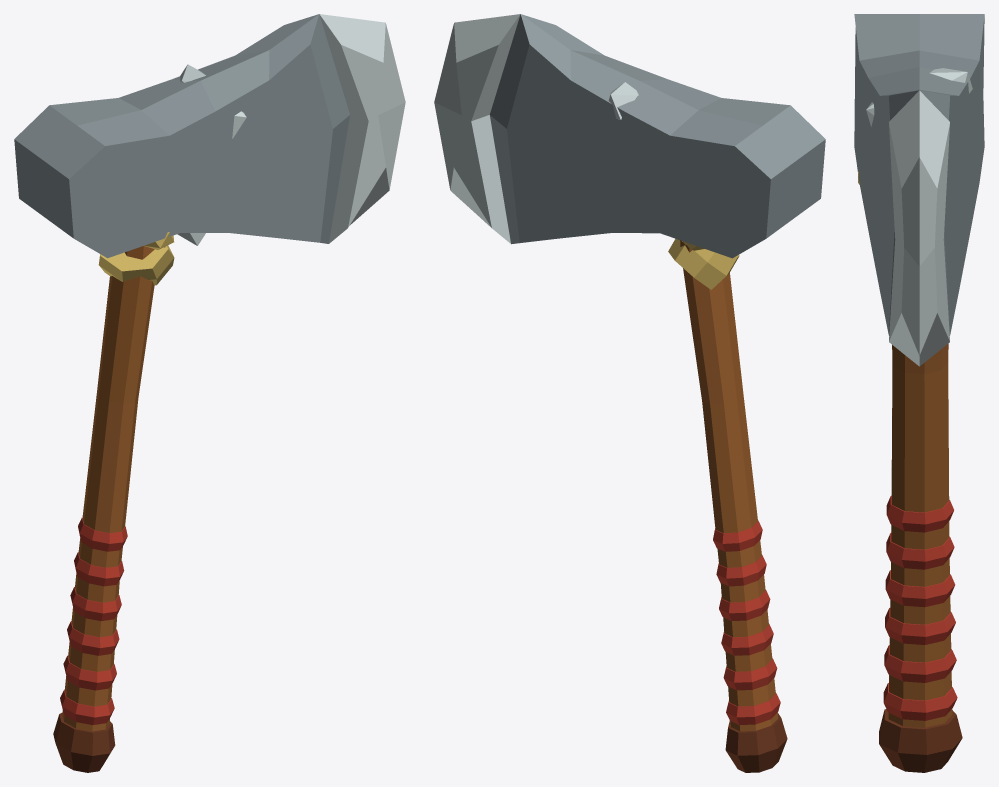
The model's file is stone_axe_viewmodel.glb.
The picture shows the model from 3 angles, left to right: view 1: azimuth 30°, elevation 25°; view 2: azimuth 150°, elevation 25°; view 3: azimuth 270°, elevation 25°; orthographic projection. The views are drawn at different scales.
Visible parts, largest first — view 1: Stone_Axe_Head.001, Handle.003, Stone_Axe_Edge.001, Handle_Butt.003, Lashing_1.003, Grip_Wrap_1.003, Grip_Wrap_2.003, Grip_Wrap_3.003, Grip_Wrap_4.003, Grip_Wrap_5.003, Grip_Wrap_6.003; view 2: Stone_Axe_Head.001, Handle.003, Stone_Axe_Edge.001, Handle_Butt.003, Lashing_1.003, Grip_Wrap_1.003, Grip_Wrap_2.003, Grip_Wrap_3.003, Grip_Wrap_4.003, Grip_Wrap_5.003, Grip_Wrap_6.003; view 3: Stone_Axe_Head.001, Handle.003, Stone_Axe_Edge.001, Handle_Butt.003, Grip_Wrap_1.003, Grip_Wrap_2.003, Grip_Wrap_3.003, Grip_Wrap_4.003, Grip_Wrap_5.003, Grip_Wrap_6.003, Stone_Flake_2.001.
Boxes of the visible parts, x1,y1,x2,y2 form: Stone_Axe_Head.001: (14, 14, 349, 258); Handle.003: (62, 246, 154, 731); Stone_Axe_Edge.001: (319, 14, 405, 243); Handle_Butt.003: (53, 712, 115, 772); Lashing_1.003: (98, 245, 174, 285); Grip_Wrap_1.003: (60, 689, 114, 724); Grip_Wrap_2.003: (63, 655, 116, 690); Grip_Wrap_3.003: (67, 621, 119, 655); Grip_Wrap_4.003: (70, 587, 121, 621); Grip_Wrap_5.003: (74, 552, 124, 586); Grip_Wrap_6.003: (78, 517, 127, 551); Stone_Axe_Head.001: (490, 14, 825, 258); Handle.003: (680, 240, 778, 731); Stone_Axe_Edge.001: (434, 14, 520, 243); Handle_Butt.003: (725, 713, 787, 772); Lashing_1.003: (668, 238, 739, 289); Grip_Wrap_1.003: (726, 692, 780, 724); Grip_Wrap_2.003: (723, 658, 777, 690); Grip_Wrap_3.003: (721, 624, 773, 655); Grip_Wrap_4.003: (719, 590, 770, 620); Grip_Wrap_5.003: (716, 555, 766, 586); Grip_Wrap_6.003: (713, 520, 762, 551); Stone_Axe_Head.001: (854, 14, 984, 335); Handle.003: (888, 343, 952, 727); Stone_Axe_Edge.001: (889, 90, 949, 366); Handle_Butt.003: (879, 709, 962, 772); Grip_Wrap_1.003: (883, 683, 957, 720); Grip_Wrap_2.003: (884, 645, 956, 682); Grip_Wrap_3.003: (885, 608, 955, 644); Grip_Wrap_4.003: (885, 570, 955, 607); Grip_Wrap_5.003: (886, 533, 954, 569); Grip_Wrap_6.003: (886, 495, 953, 532); Stone_Flake_2.001: (866, 68, 972, 126).
Size of the model in its own units: 0.767 by 1.4 by 0.204.
